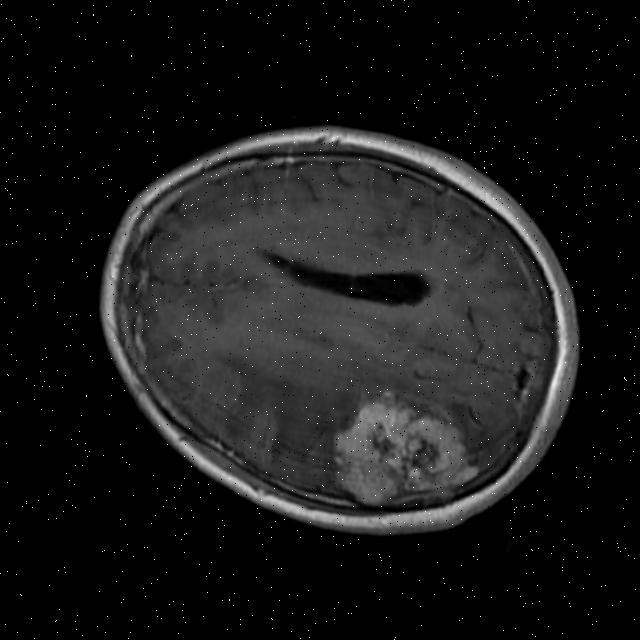Meningioma: (323, 392, 486, 522)
